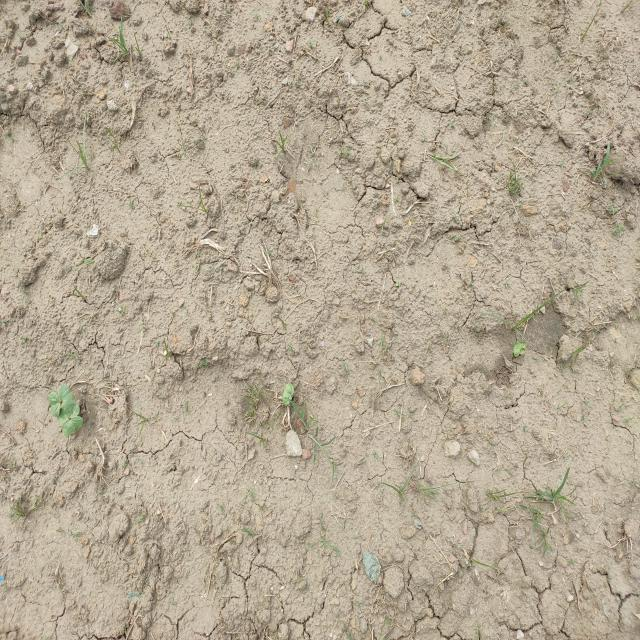seedling_s2: (58, 385, 75, 413), (57, 404, 80, 423), (62, 416, 83, 436), (282, 383, 294, 406), (49, 392, 60, 416), (513, 342, 520, 357), (519, 341, 525, 355)
